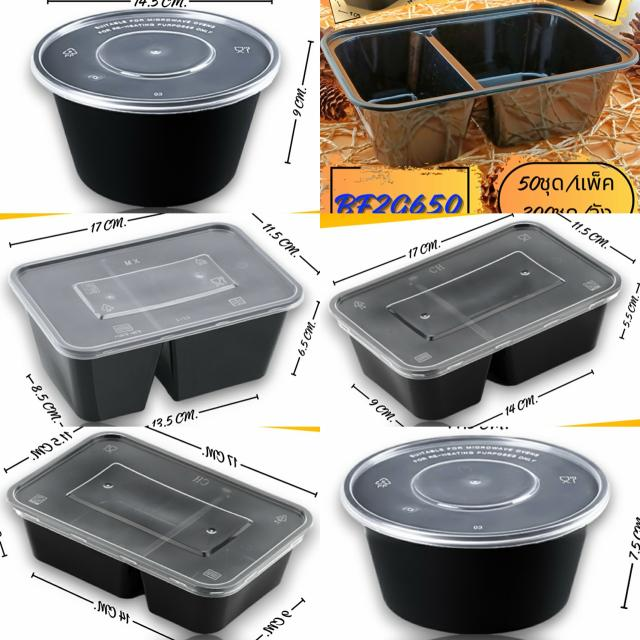plastik: (8, 432, 313, 632), (10, 224, 303, 421), (330, 222, 620, 419), (342, 436, 609, 632), (322, 4, 638, 166), (33, 10, 280, 206)
